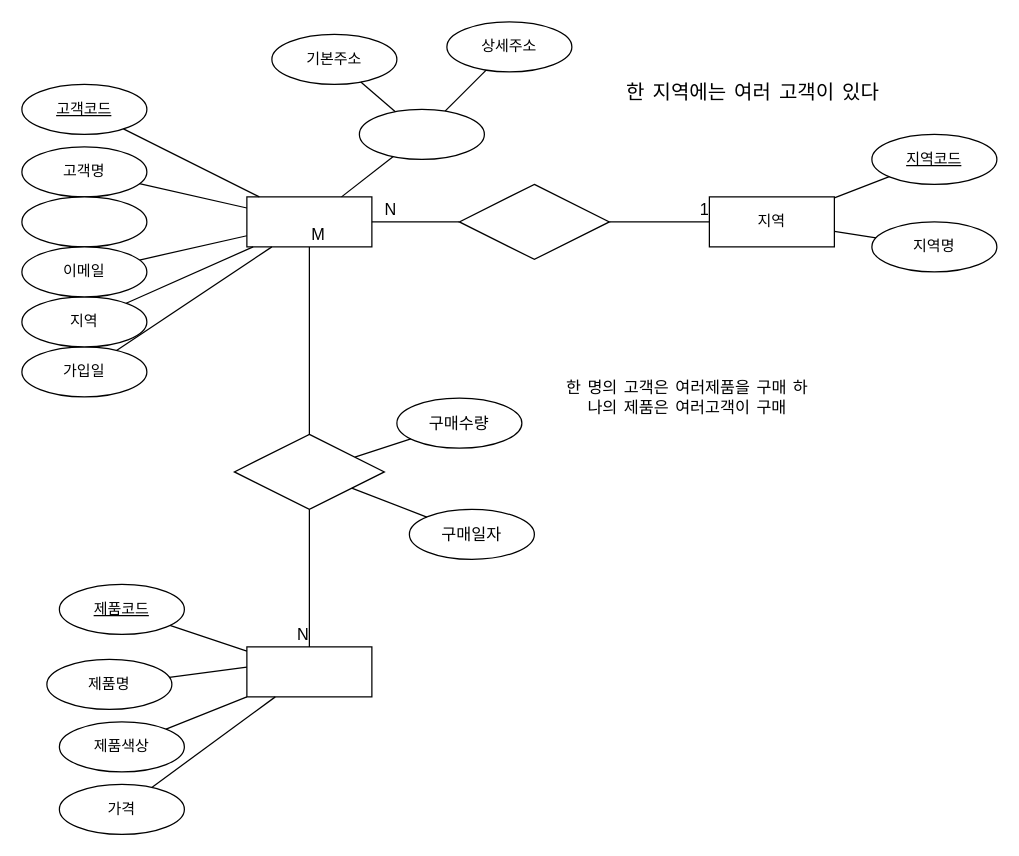
Image size: 1019x856. Some labels were removed from this diagram. The shapes that lost their labels are listed below. From the top down, each one's centre as x and y in pixels, then its label:
point 421,133: 주소
point 84,221: 전화번호
point 309,221: 고객
point 533,221: 관리
point 308,471: 구매
point 309,671: 제품
